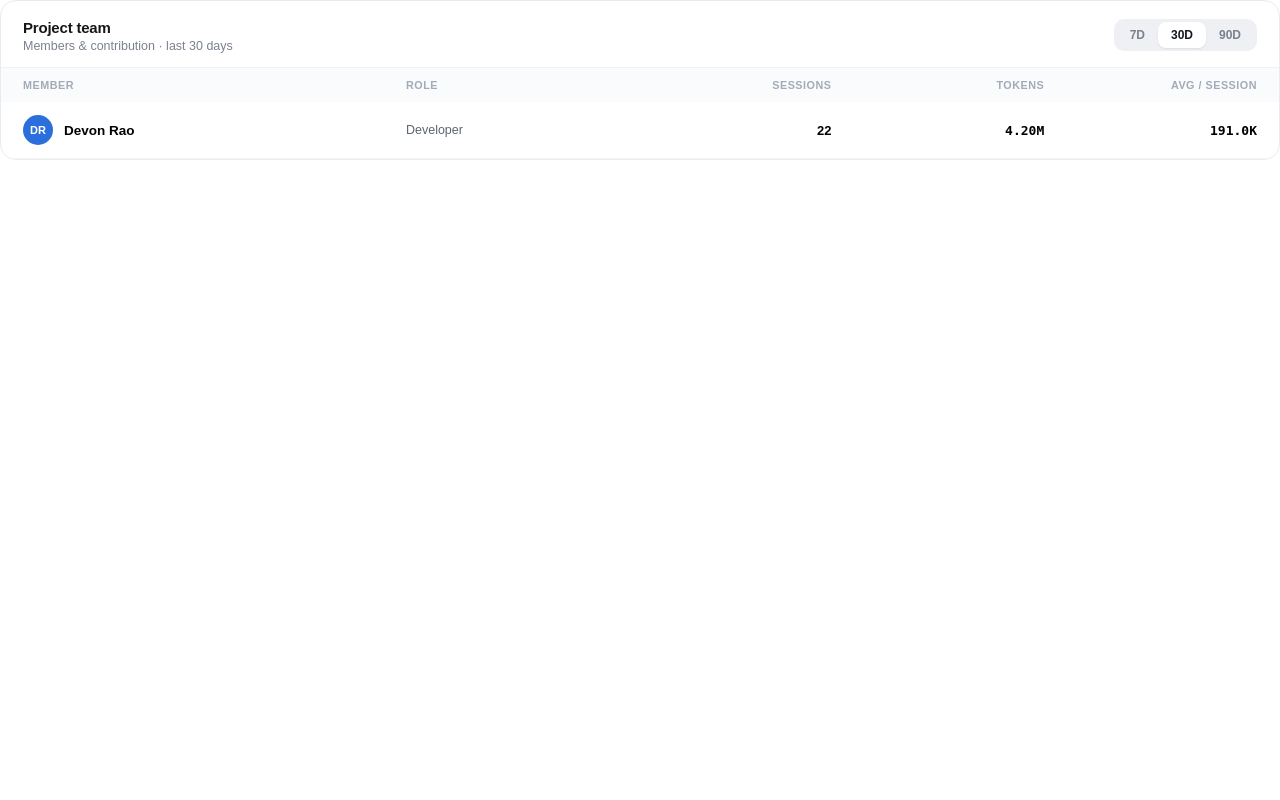
Test case: ProgramTeamPanel › closing the popup restores focus to the row button that opened it
Click the button with aria-label "View usage for Devon Rao, Developer": (99, 130) left=1, top=102, right=1279, bottom=159
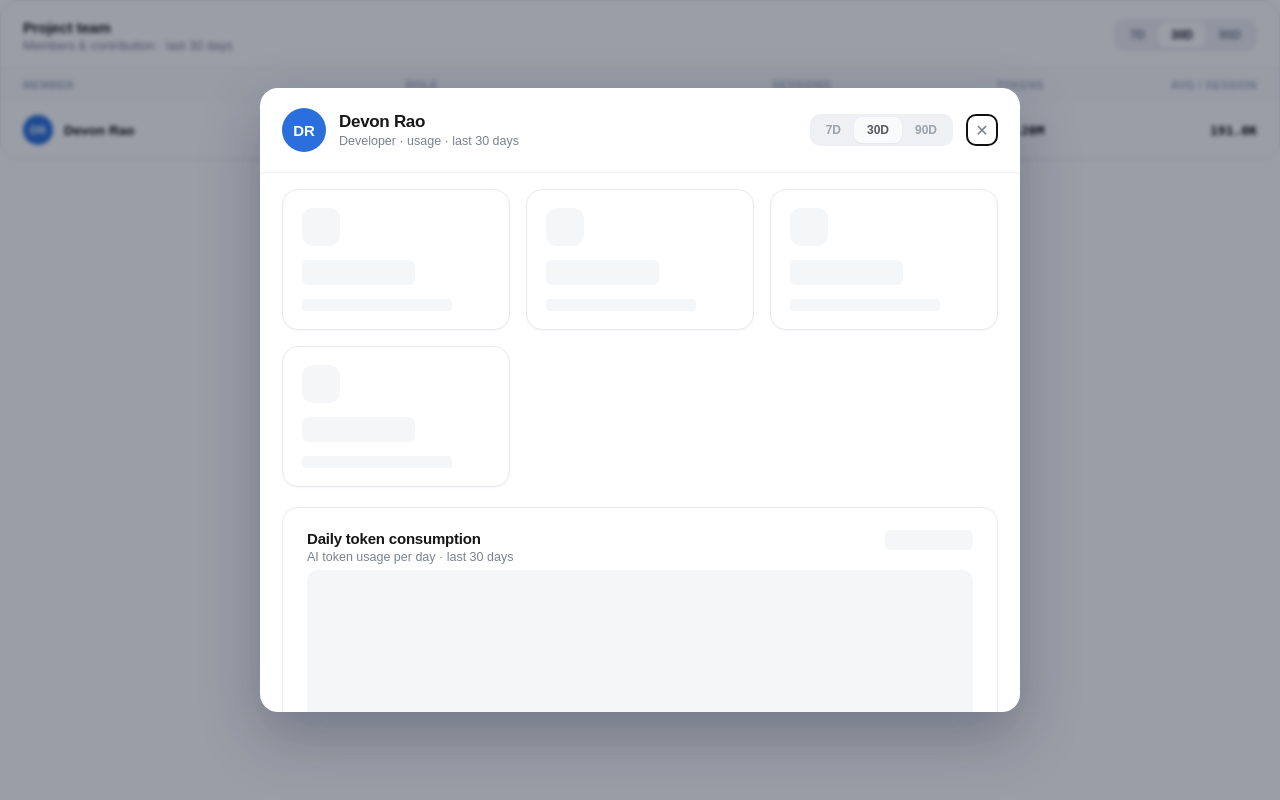
Click the button named "Close usage for Devon Rao": (982, 130) left=966, top=114, right=998, bottom=146
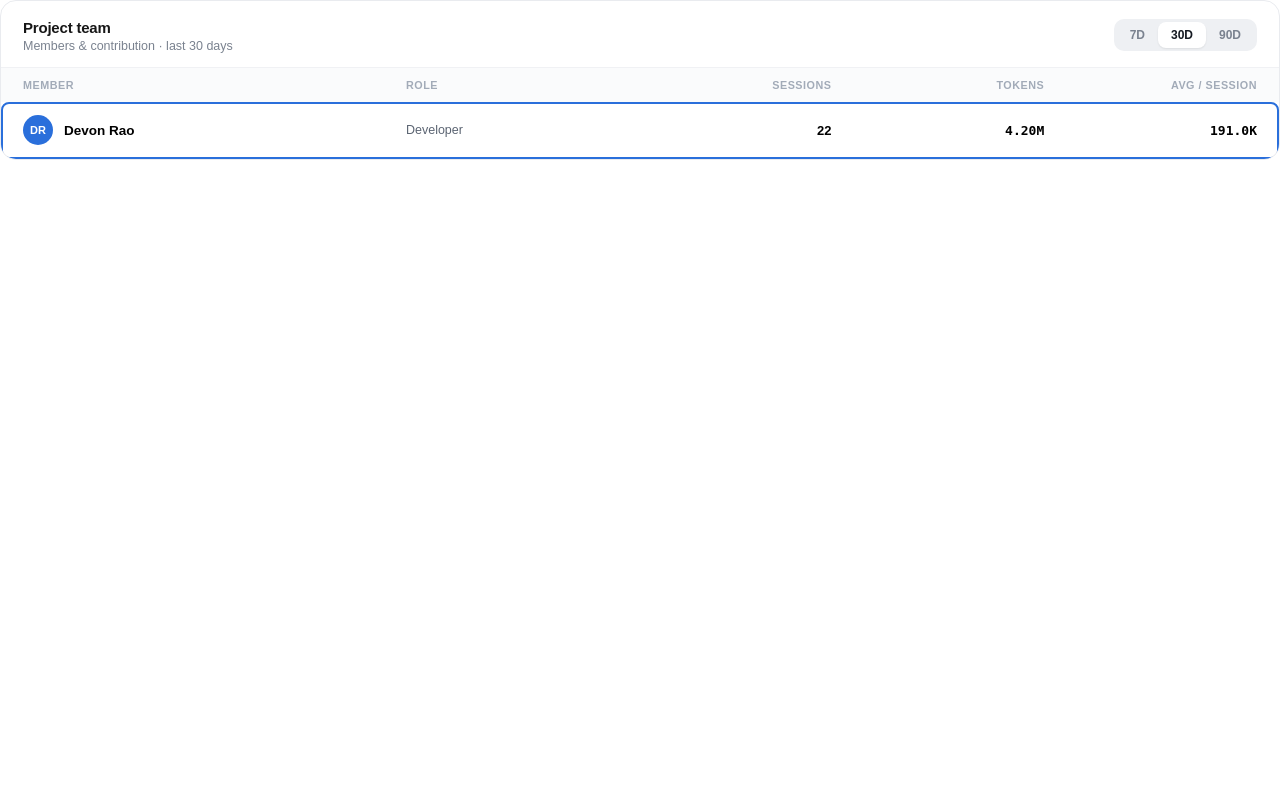
Now the dialog is gone
